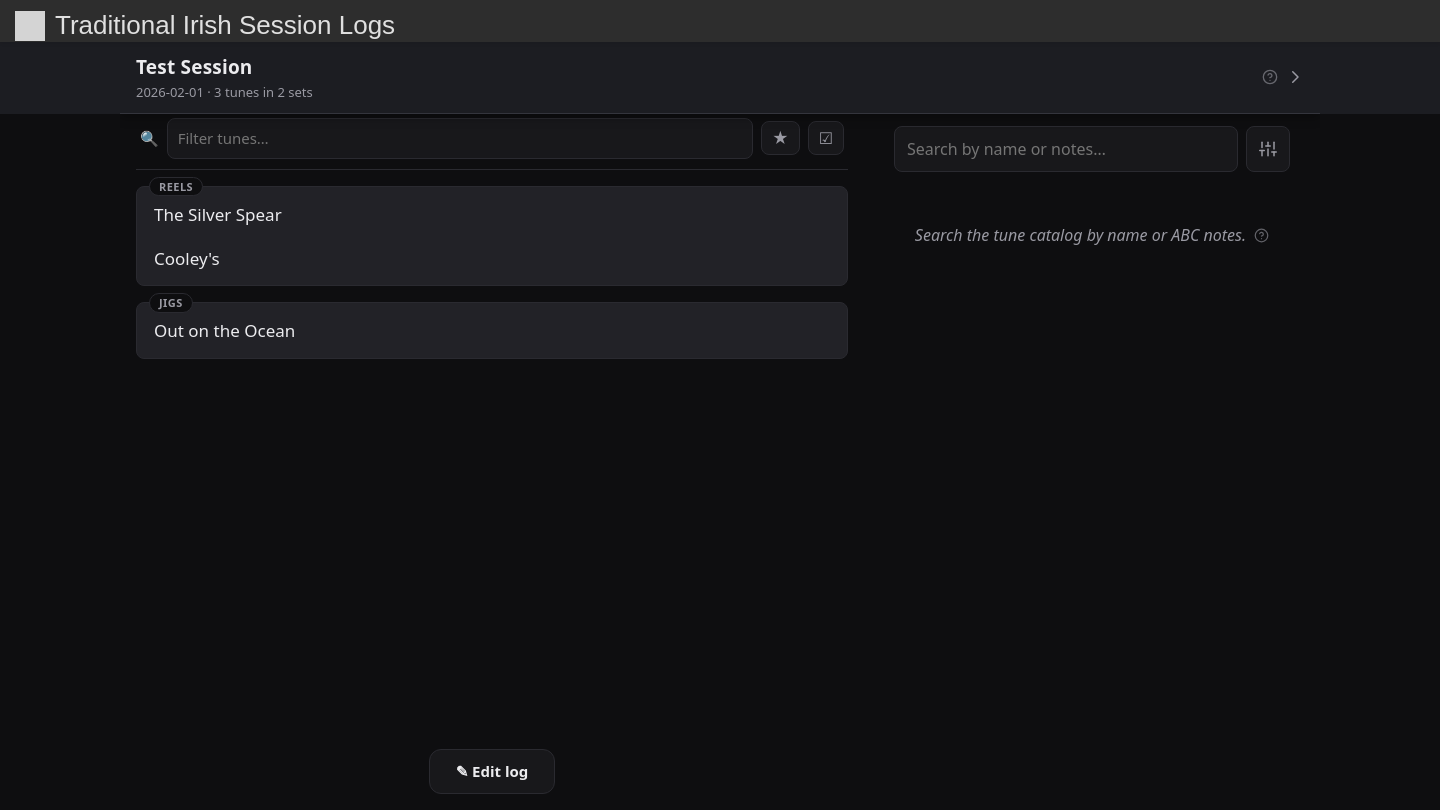
Test case: composer multi-tune paste › pastes lines/commas as ordered add_tune + set_break ops
expect the number of buttons with class "tune-row" is 3: met, box [154,203,282,226]; [154,247,220,270]; [154,319,295,342]
Click the button with class "editbtn".
click(492, 772)  # box [429,749,555,794]
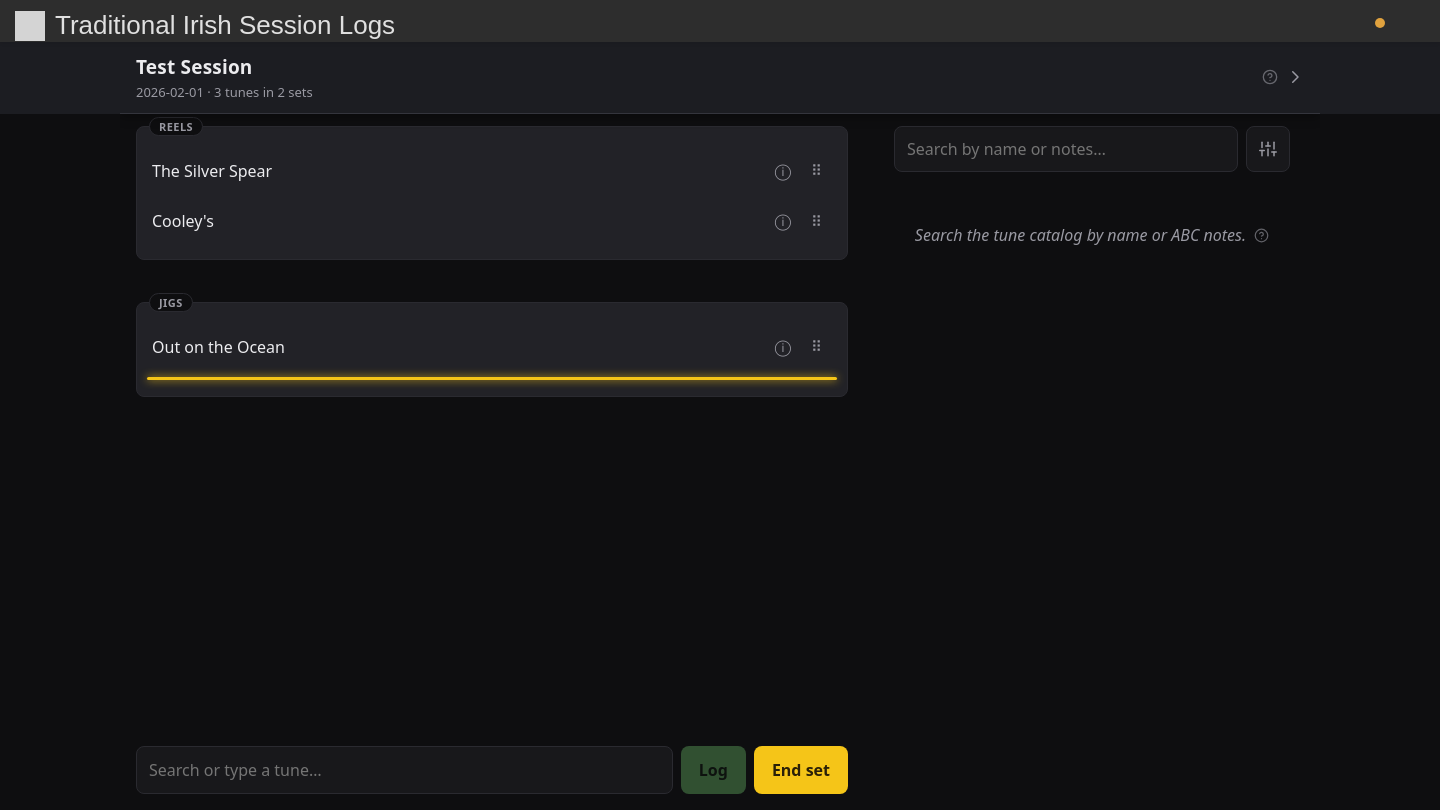
expect the dropdown with placeholder "Search or type a tune…" is shown: met, box [136,746,673,794]
